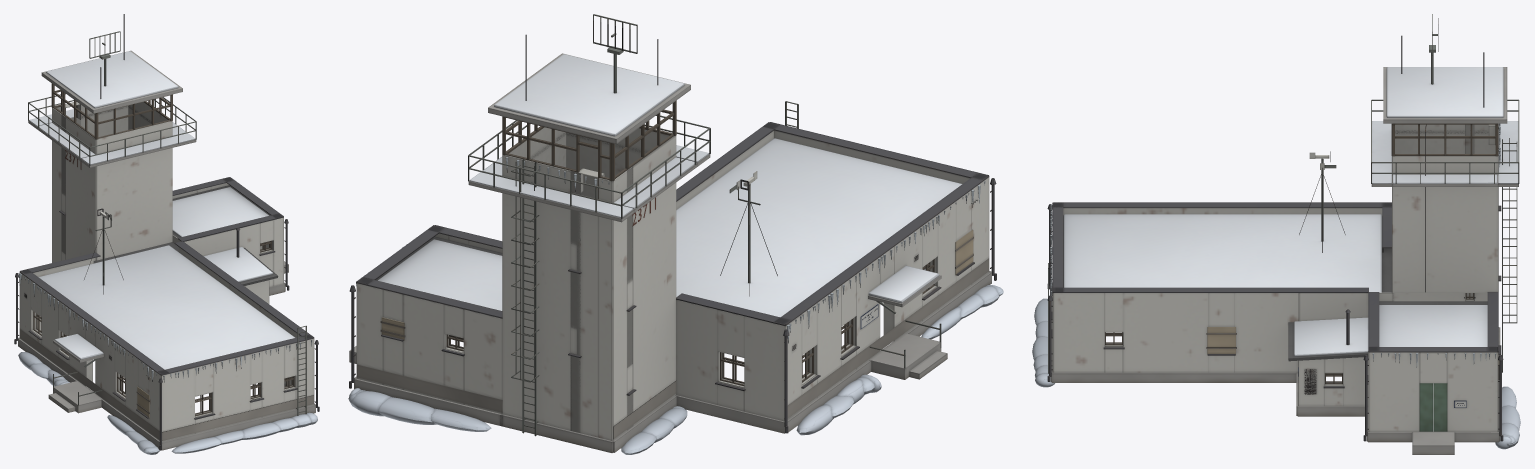
The model's file is corpus_ext.glb.
3 views of the same model, side by side, from view 1: azimuth 30°, elevation 25°; view 2: azimuth 150°, elevation 25°; view 3: azimuth 270°, elevation 25° (orthographic). The views are drawn at different scales.
Parts seen in each view (by area): view 1: corpus_ext; view 2: corpus_ext; view 3: corpus_ext.
Boxes of the visible parts, bbox=[...] form: corpus_ext: bbox=[14, 14, 319, 454]; corpus_ext: bbox=[348, 14, 1003, 454]; corpus_ext: bbox=[1032, 14, 1520, 454].
Size of the model in its own units: 18.32 by 16.07 by 20.87.
1 material, 1 textured.
